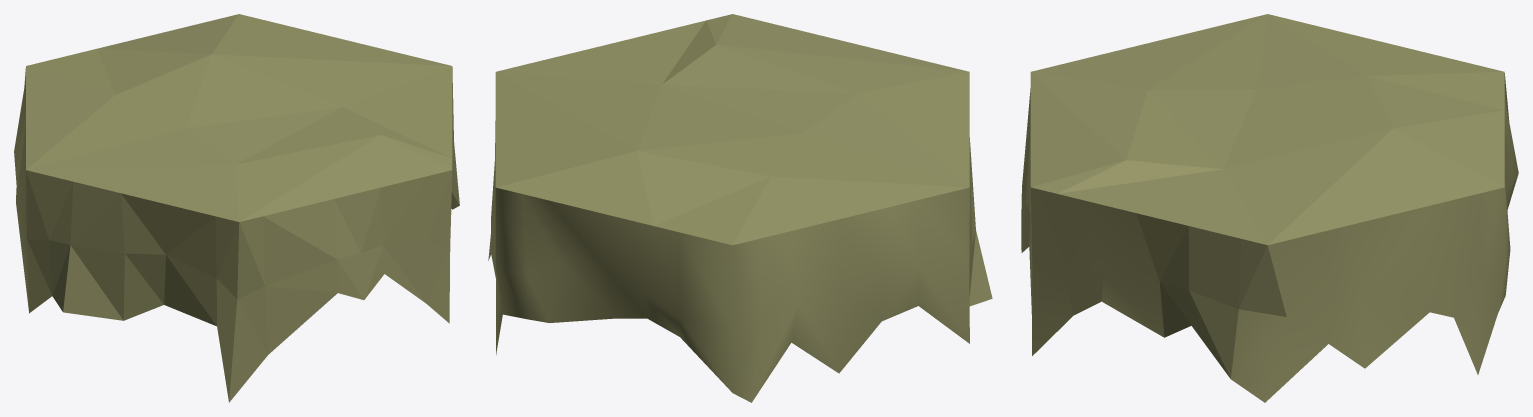
File: Hexagone 1.FBX
3 renders of one model, left to right at view 1: azimuth 30°, elevation 25°; view 2: azimuth 150°, elevation 25°; view 3: azimuth 270°, elevation 25°, orthographic. The views are drawn at different scales.
Parts seen in each view (by area): view 1: Hexagone 1; view 2: Hexagone 1; view 3: Hexagone 1.
Part boxes in pixels (x1,y1,x2,y2): Hexagone 1: (14,14,459,402); Hexagone 1: (488,14,992,402); Hexagone 1: (1021,14,1518,402).
Bounding box in the file's own units: 1000 × 443 × 909.
